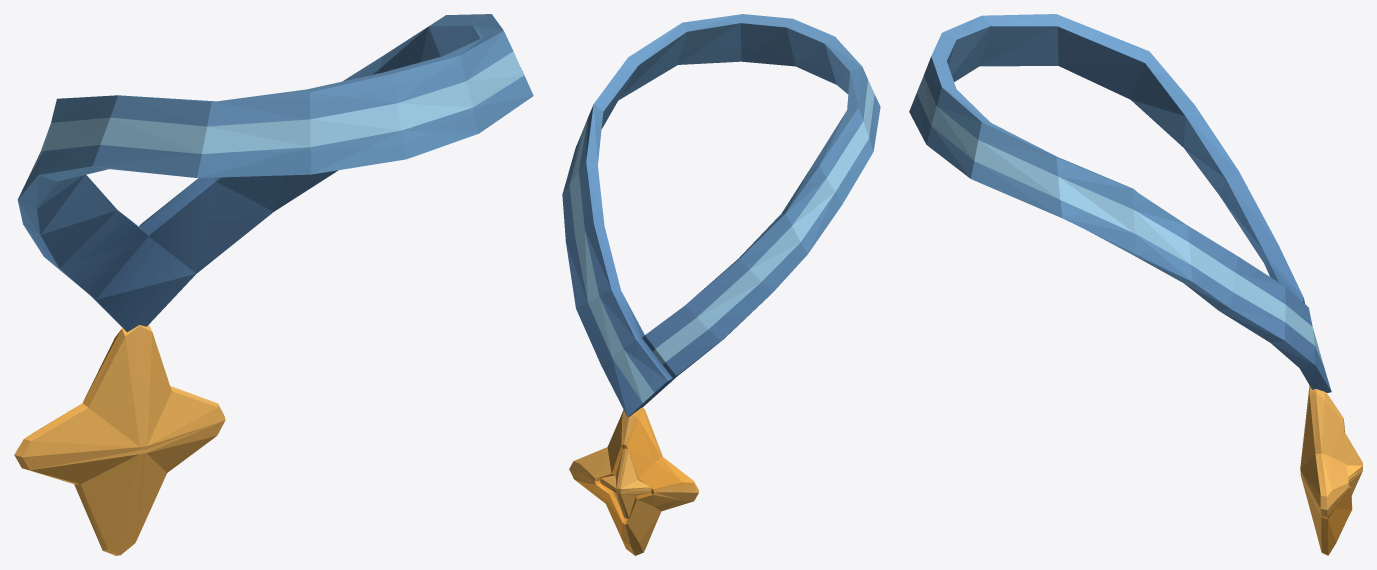
Rendered from CharSkyKid_Neck_MedalGold.glb.
3 renders of one model, left to right at view 1: azimuth 30°, elevation 25°; view 2: azimuth 150°, elevation 25°; view 3: azimuth 270°, elevation 25°, orthographic. The views are drawn at different scales.
Parts seen in each view (by area): view 1: CharSkyKid_Neck_MedalGold; view 2: CharSkyKid_Neck_MedalGold; view 3: CharSkyKid_Neck_MedalGold.
Part boxes in pixels (x1,y1,x2,y2): CharSkyKid_Neck_MedalGold: (14, 14, 533, 555); CharSkyKid_Neck_MedalGold: (562, 14, 880, 555); CharSkyKid_Neck_MedalGold: (909, 14, 1362, 555).
Bounding box in the file's own units: 2.09 × 3.1 × 2.53.
1 material, 1 textured.
